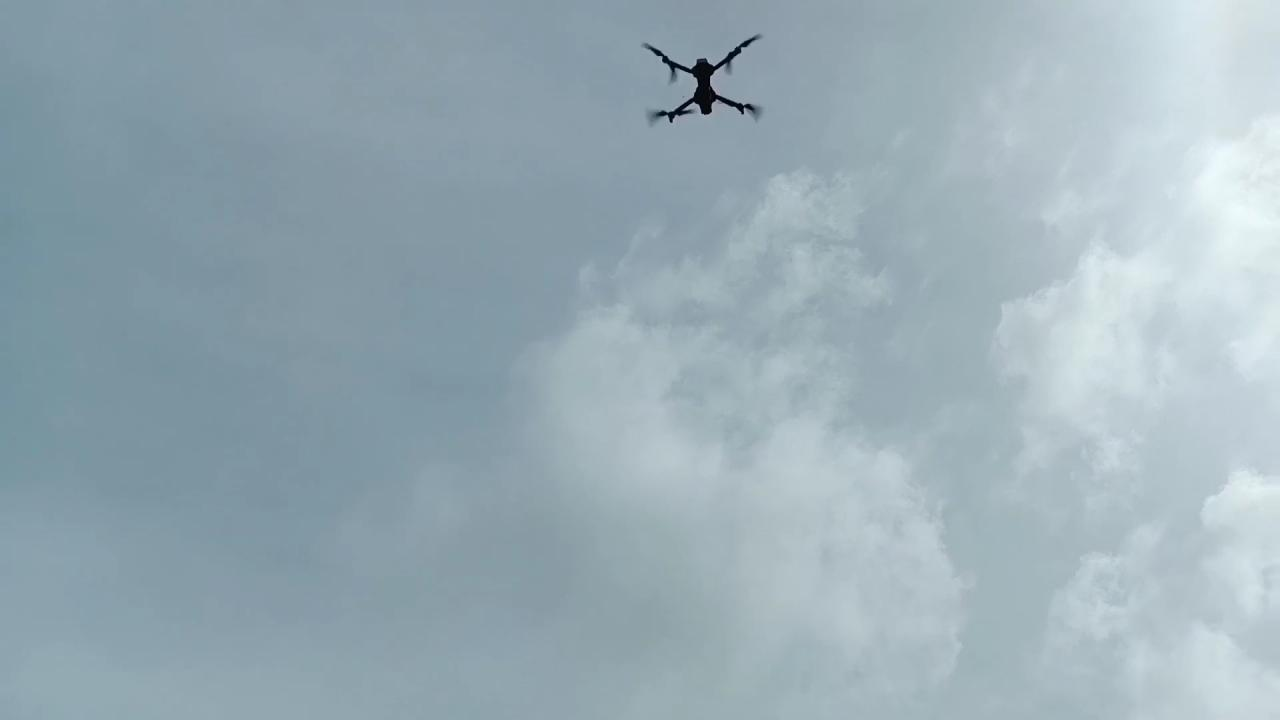Drone: (632, 20, 774, 134)
